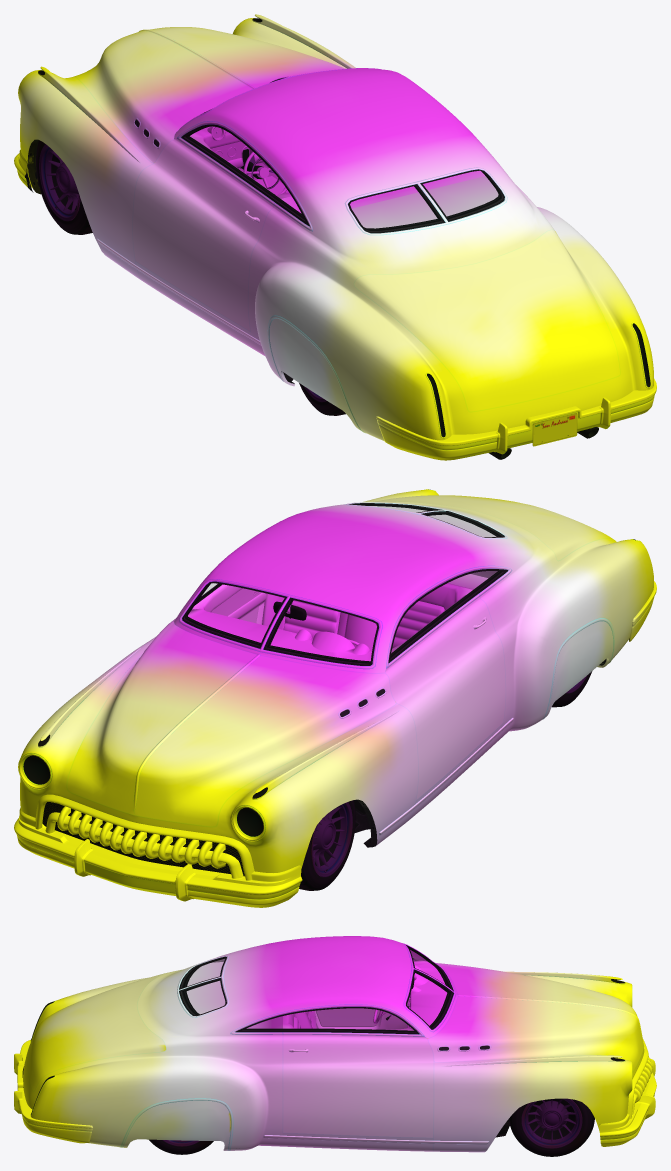
Rendered from hermes.glb.
3 renders of one model, top to bottom at view 1: azimuth 30°, elevation 25°; view 2: azimuth 150°, elevation 25°; view 3: azimuth 270°, elevation 25°, orthographic. The views are drawn at different scales.
Visible parts, largest first — view 1: bodyshell, boot, door_dside_f, bonnet, chassis, bumper_r, windscreen_r, misc_b, wheel_lf, window_lf, misc_a; view 2: bodyshell, bonnet, door_dside_f, bumper_f, chassis, boot, wheel_lf, misc_b, window_lf, misc_a, door_pside_f, windscreen_r; view 3: bodyshell, door_pside_f, bonnet, boot, chassis, misc_b, wheel_rf, bumper_f, window_rf, misc_a, bumper_r, door_dside_f (+2 smaller).
Part boxes in pixels (box(x1,y1,x2,y2)): bodyshell: box(18, 18, 653, 440); boot: box(354, 229, 620, 411); door_dside_f: box(132, 136, 280, 331); bonnet: box(74, 27, 345, 162); chassis: box(27, 78, 650, 437); bumper_r: box(376, 378, 656, 460); windscreen_r: box(350, 171, 501, 230); misc_b: box(267, 315, 365, 433); wheel_lf: box(36, 140, 92, 234); window_lf: box(185, 127, 281, 198); misc_a: box(38, 14, 352, 345); bodyshell: box(18, 489, 653, 877); bonnet: box(67, 621, 395, 826); door_dside_f: box(385, 590, 505, 799); bumper_f: box(14, 794, 302, 907); chassis: box(23, 489, 635, 876); boot: box(371, 495, 613, 560); wheel_lf: box(299, 800, 355, 890); misc_b: box(543, 618, 614, 719); window_lf: box(391, 574, 476, 657); misc_a: box(38, 648, 513, 835); door_pside_f: box(144, 583, 266, 644); windscreen_r: box(355, 504, 500, 536); bodyshell: box(23, 936, 644, 1152); door_pside_f: box(283, 1028, 433, 1137); bonnet: box(428, 963, 643, 1072); boot: box(27, 973, 166, 1091); chassis: box(31, 946, 509, 1137); misc_b: box(120, 1098, 233, 1150); wheel_rf: box(509, 1098, 594, 1156); bumper_f: box(599, 1038, 656, 1146); window_rf: box(283, 1009, 414, 1031); misc_a: box(263, 971, 625, 1144); bumper_r: box(14, 1040, 92, 1143); door_dside_f: box(315, 958, 414, 1029).
Size of the model in its own units: 1.99 by 1.33 by 5.15.
16 materials, 11 textured.
